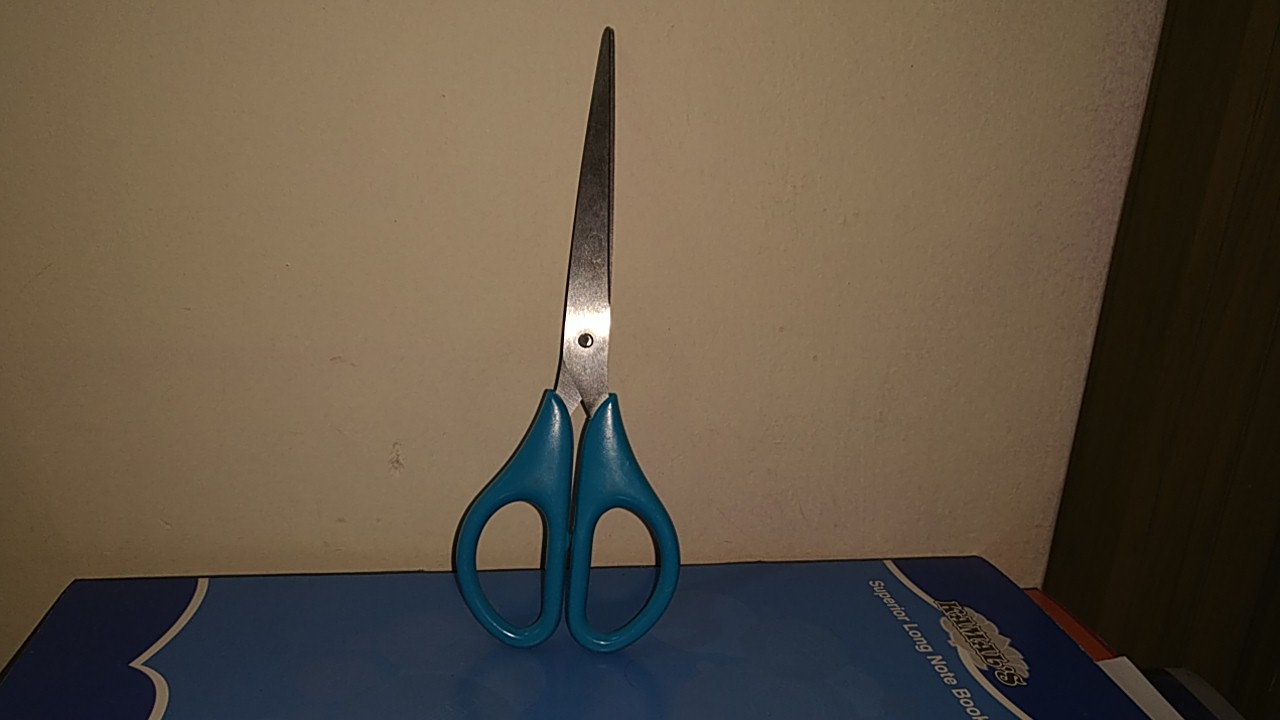scissor: (438, 17, 710, 660)
